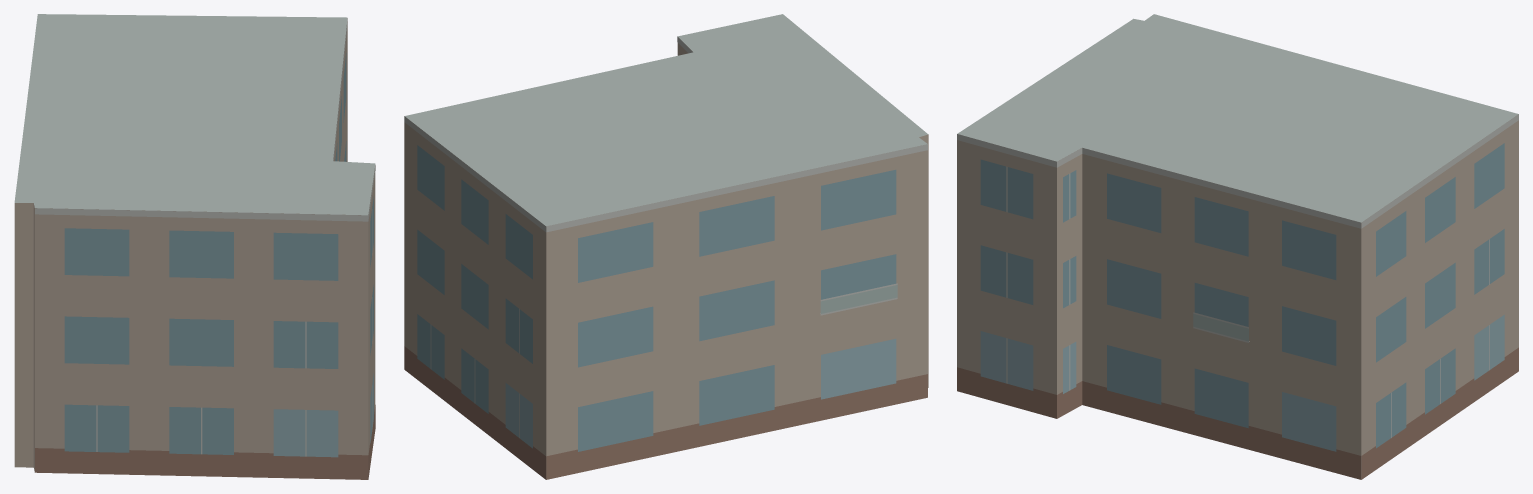
Rendered from survey-upis-32846959.glb.
3 views of the same model, side by side, from view 1: azimuth 30°, elevation 25°; view 2: azimuth 150°, elevation 25°; view 3: azimuth 270°, elevation 25° (orthographic). The views are drawn at different scales.
Parts seen in each view (by area): view 1: survey-upis-32846959.tmp; view 2: survey-upis-32846959.tmp; view 3: survey-upis-32846959.tmp.
Boxes of the visible parts, x1,y1,x2,y2 form: survey-upis-32846959.tmp: (14,14,375,479); survey-upis-32846959.tmp: (404,14,928,479); survey-upis-32846959.tmp: (957,14,1518,479).
Bounding box in the file's own units: 17.75 × 10.2 × 20.19.
